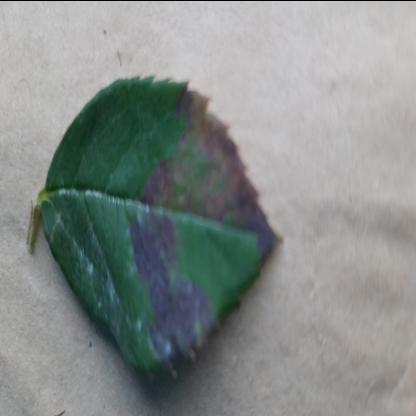downy-mildew: (38, 78, 282, 382)
